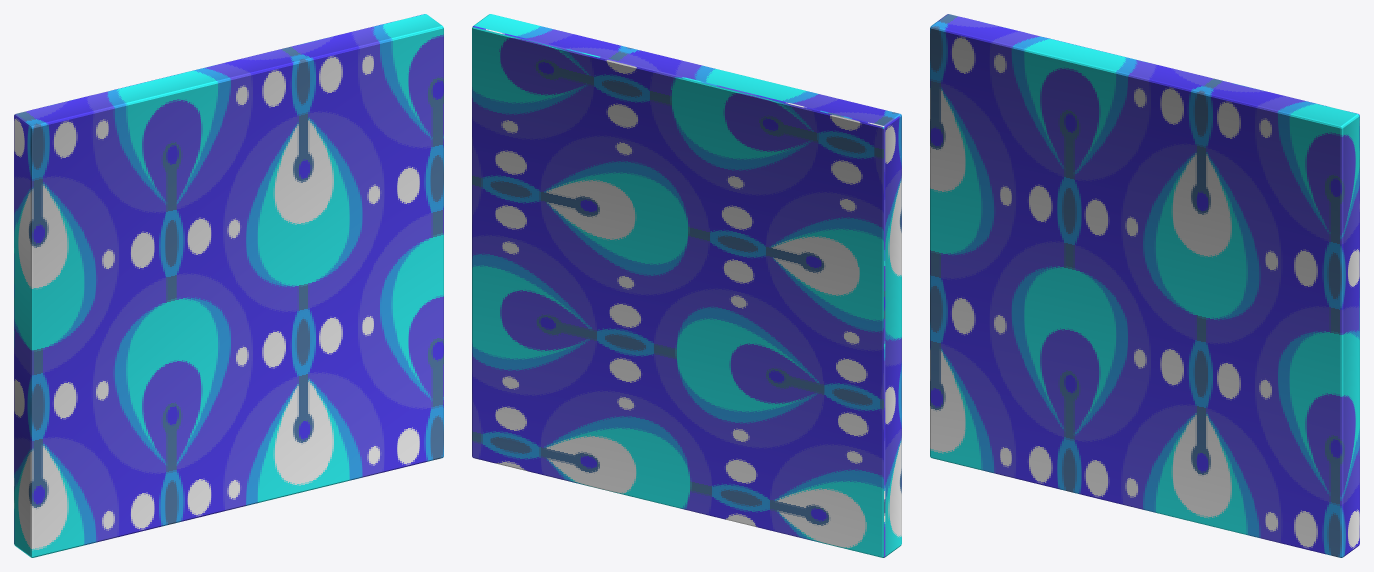
File: wall_art.glb
3 views of the same model, side by side, from view 1: azimuth 30°, elevation 25°; view 2: azimuth 150°, elevation 25°; view 3: azimuth 330°, elevation 25° (orthographic).
Visible parts, largest first — view 1: Canvas_Painting_01; view 2: Canvas_Painting_01; view 3: Canvas_Painting_01.
Boxes of the visible parts, left/top/right/bottom form: Canvas_Painting_01: left=14, top=14, right=443, bottom=557; Canvas_Painting_01: left=472, top=14, right=901, bottom=557; Canvas_Painting_01: left=930, top=14, right=1359, bottom=557.
Bounding box in the file's own units: 0.8 × 0.8 × 0.0617.
1 material, 1 textured.
